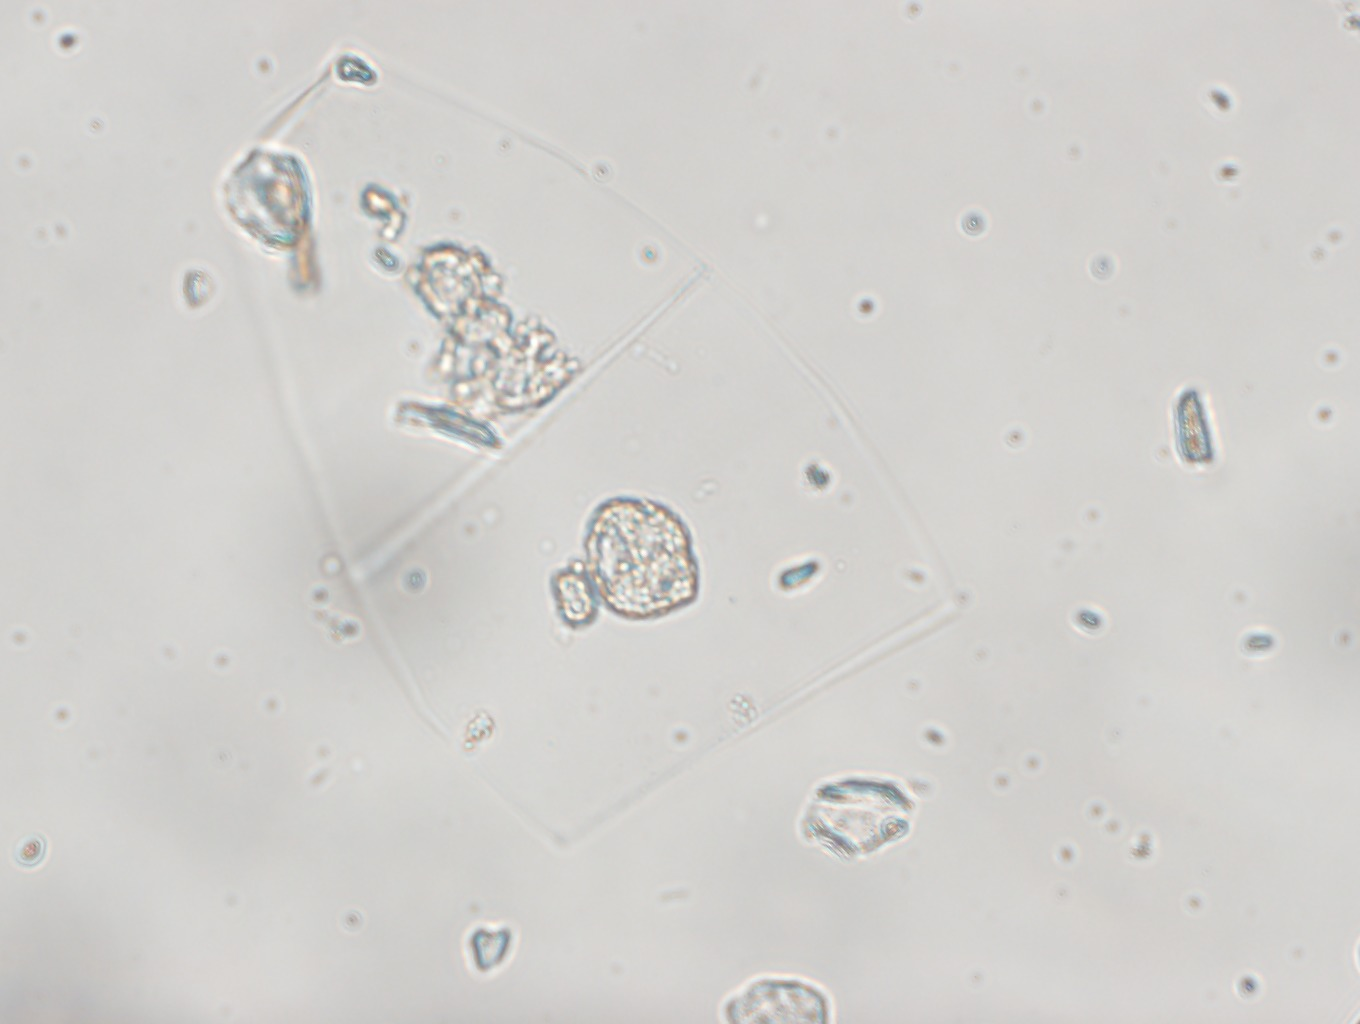helicotheca: (211, 47, 962, 845)
